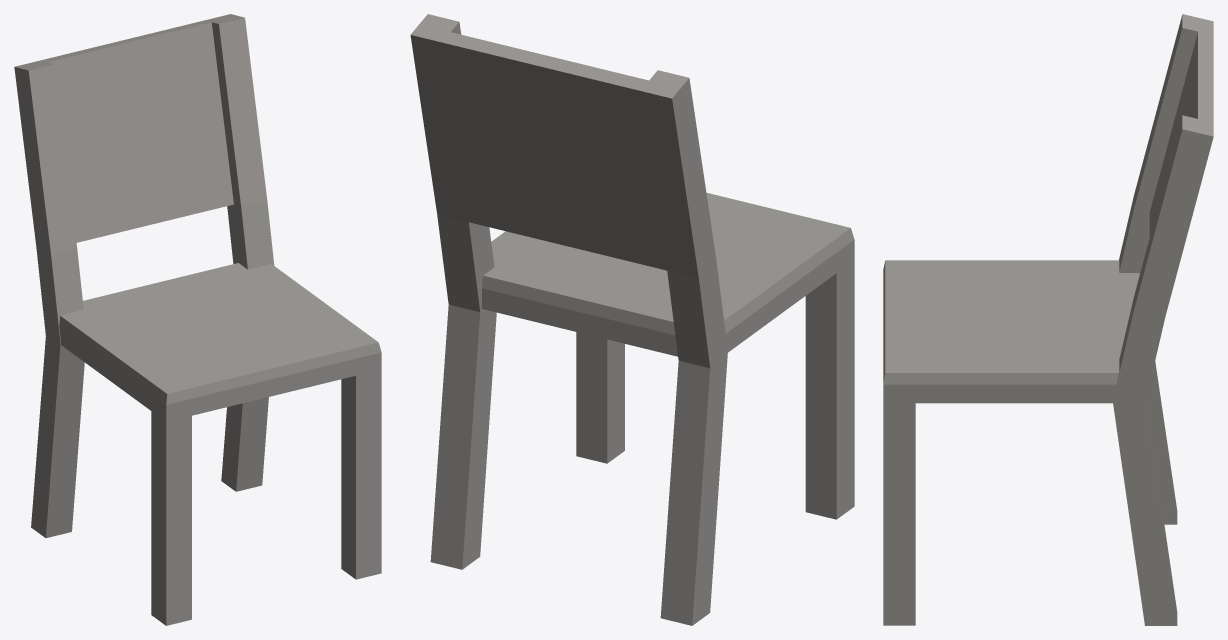
File: SM_Props_Interior_House_Generic_Chair_03.fbx
3 renders of one model, left to right at view 1: azimuth 30°, elevation 25°; view 2: azimuth 150°, elevation 25°; view 3: azimuth 270°, elevation 25°, orthographic. The views are drawn at different scales.
Visible parts, largest first — view 1: SM_Props_Interior_House_Generic_Chair_03; view 2: SM_Props_Interior_House_Generic_Chair_03; view 3: SM_Props_Interior_House_Generic_Chair_03.
Boxes of the visible parts, box(x1,y1,x2,y2) form: SM_Props_Interior_House_Generic_Chair_03: box(14, 14, 381, 625); SM_Props_Interior_House_Generic_Chair_03: box(410, 14, 854, 625); SM_Props_Interior_House_Generic_Chair_03: box(883, 14, 1213, 625).
Bounding box in the file's own units: 42.2 × 84.82 × 51.14.
